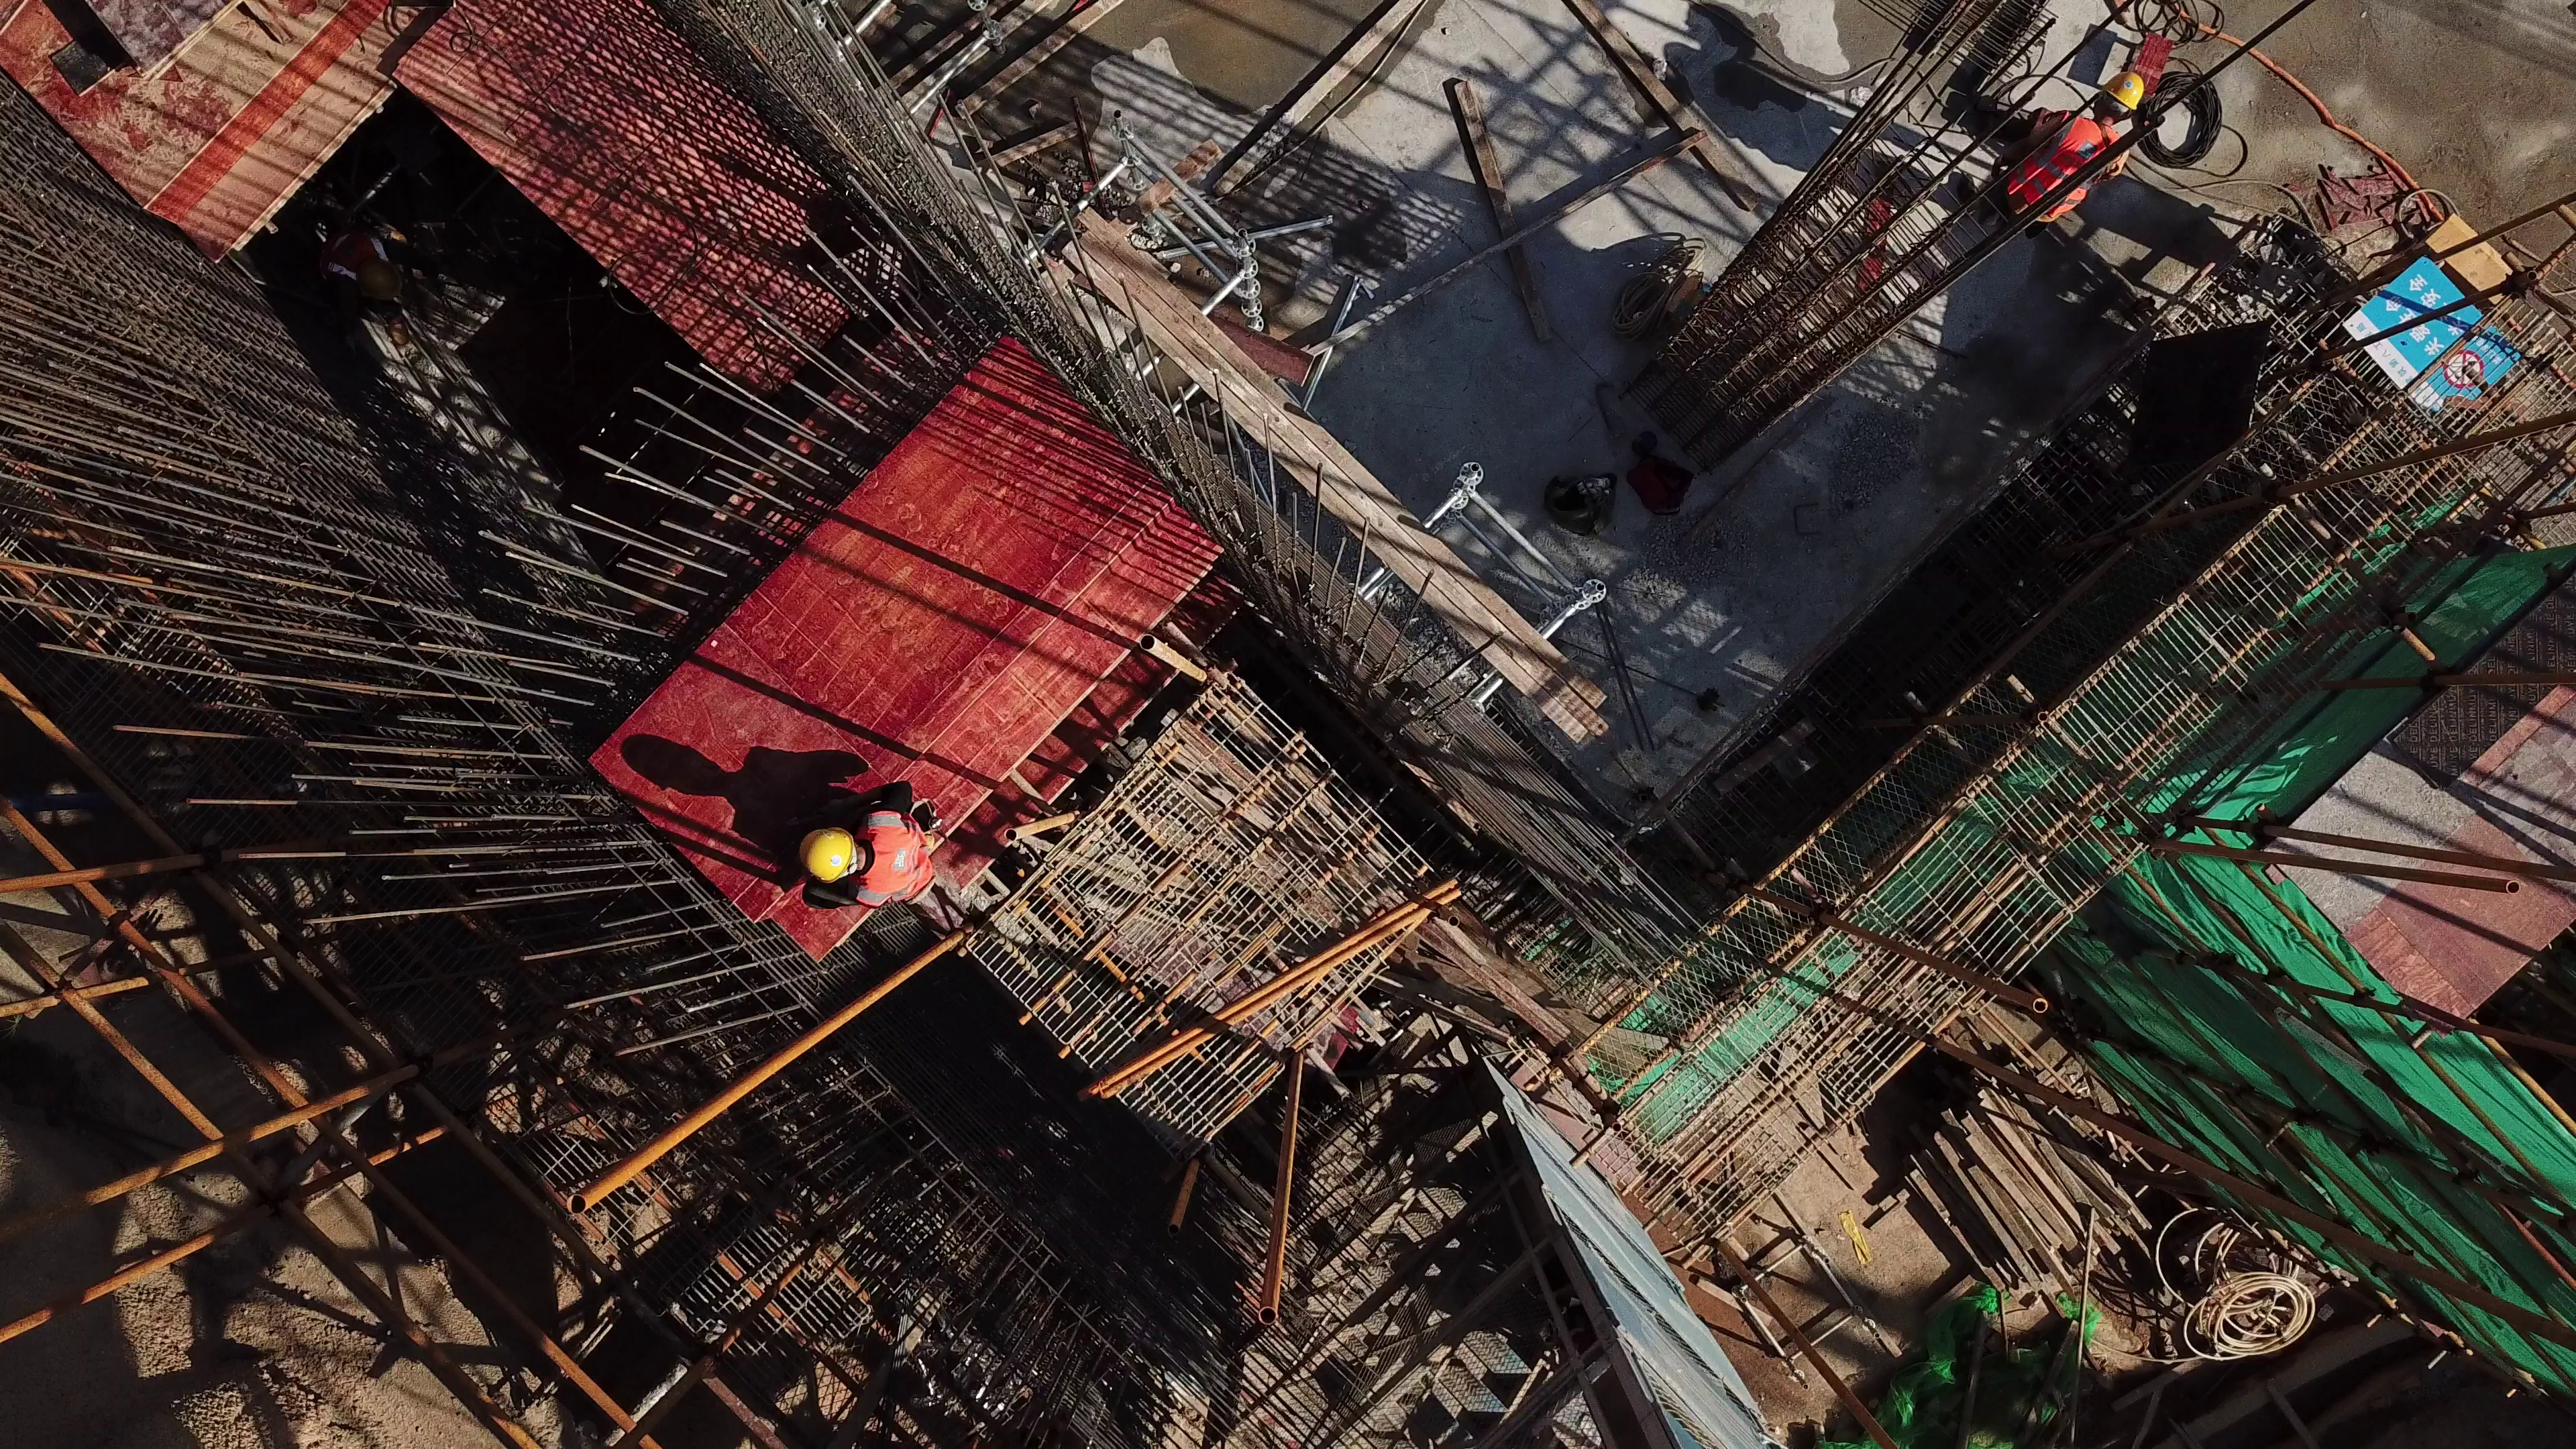helmet: (802, 833, 867, 892), (2110, 64, 2153, 121)
person: (1985, 68, 2171, 244), (787, 767, 983, 931)
vest: (1992, 112, 2136, 219), (861, 812, 945, 903)
